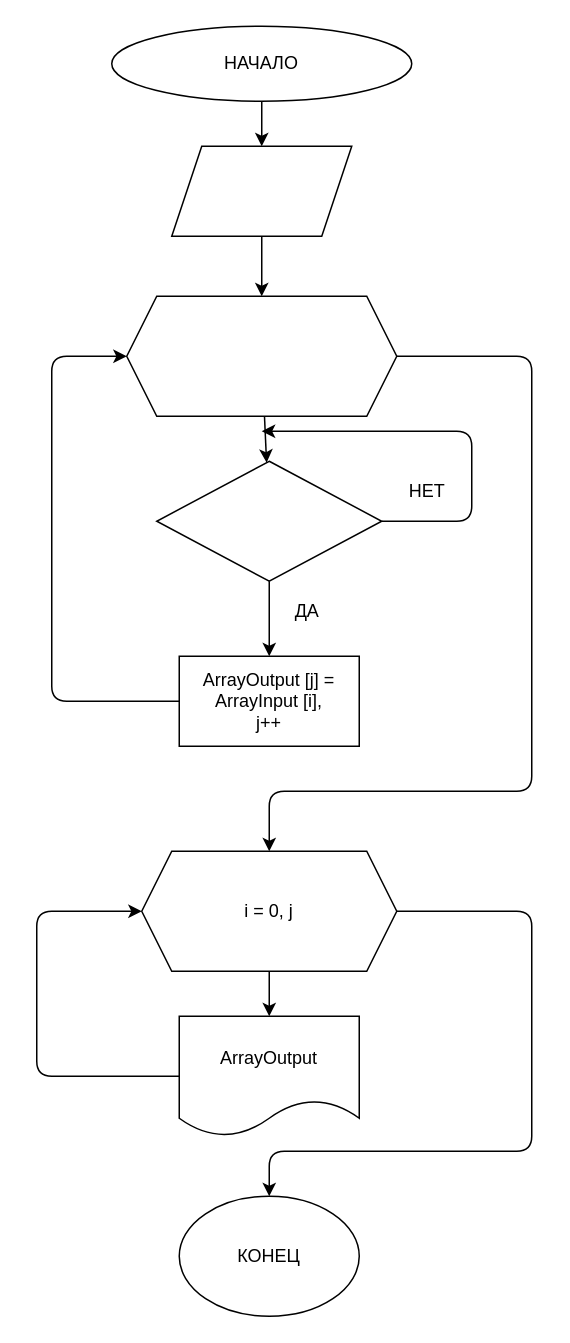
Some shapes in this 570 by 1343 pixel diagram are drawn without their labels. The box of each missing label's shape, as (x1, y1, x2, y2) in pixels:
ArrayInput, ArrayOutput, j=0: (170, 145, 352, 236)
ArrayInput[i].Length<=3: (155, 460, 382, 581)
i = 0, ArrayInput.Length: (125, 295, 397, 416)
